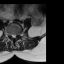CCS_stenosis: (13, 32, 14, 40)
LFS_stenosis: (16, 31, 18, 37)
LLS_stenosis: (14, 32, 16, 39)
RFS_stenosis: (9, 31, 11, 36)
RLS_normal: (11, 32, 13, 39)
